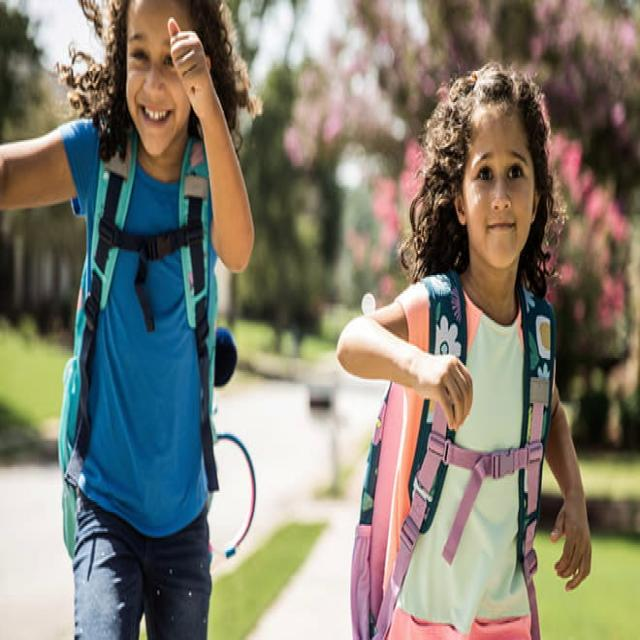child: (0, 0, 258, 640), (336, 61, 592, 640)
